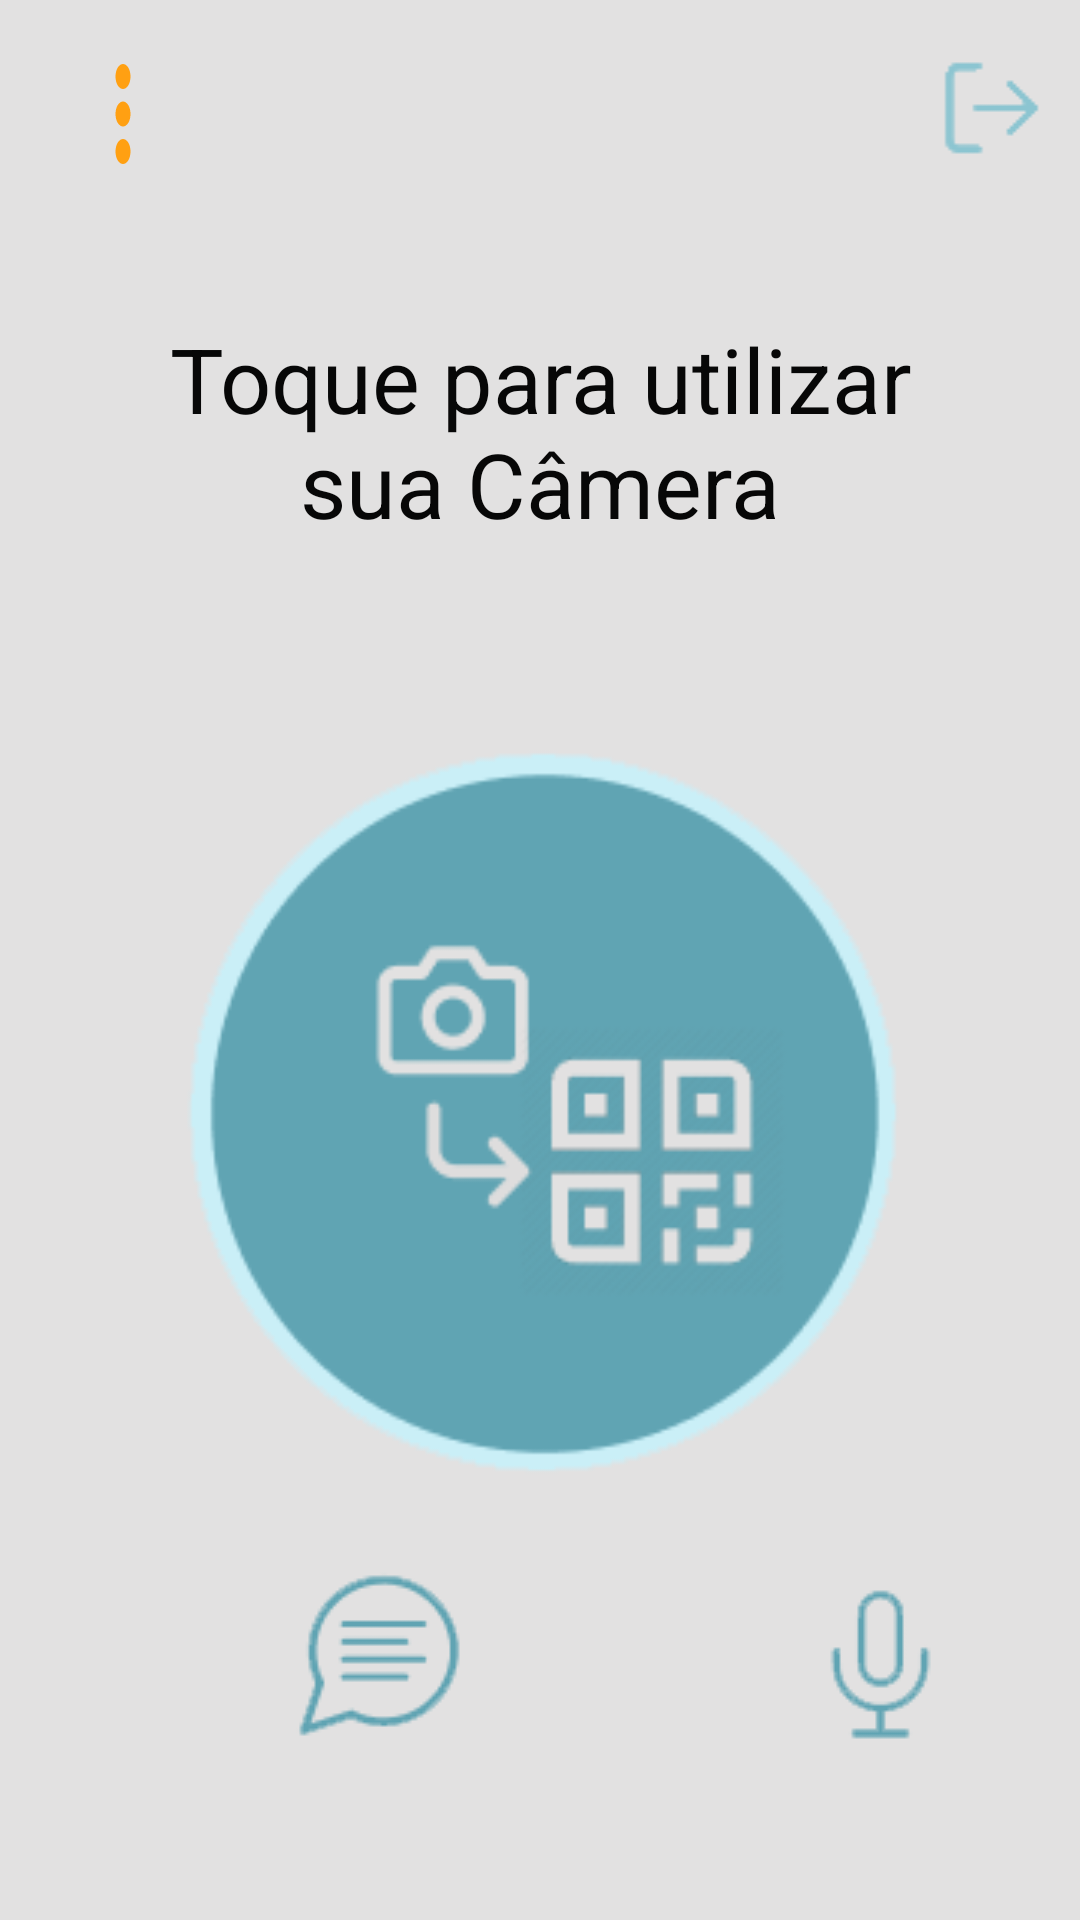

Where to tap for icons on this 1080w x 1920h app screen, as (x=x, y=y):
chat: (x=379, y=1655)
microfone: (x=880, y=1664)
sair: (x=991, y=108)
